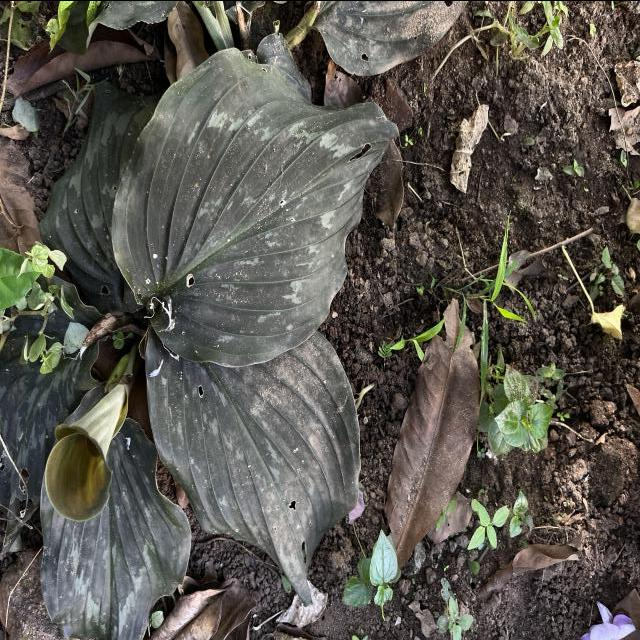Kaempferia galanga linn: (108, 44, 402, 368), (142, 330, 362, 608)
